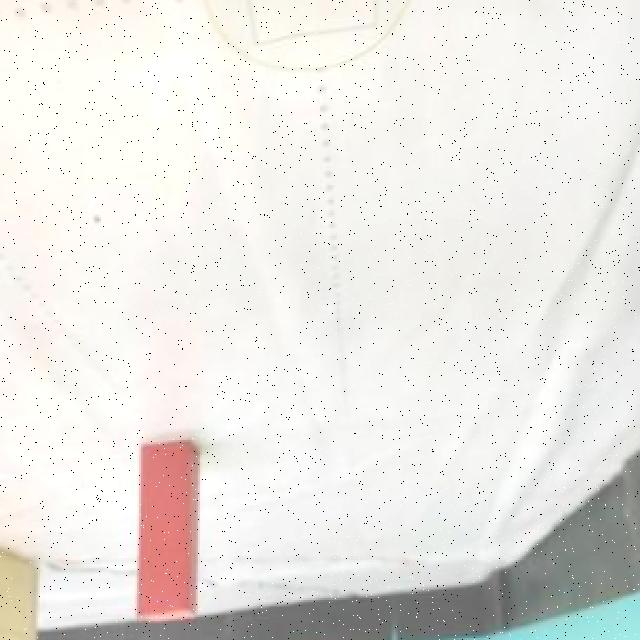redbox: (136, 438, 202, 624)
